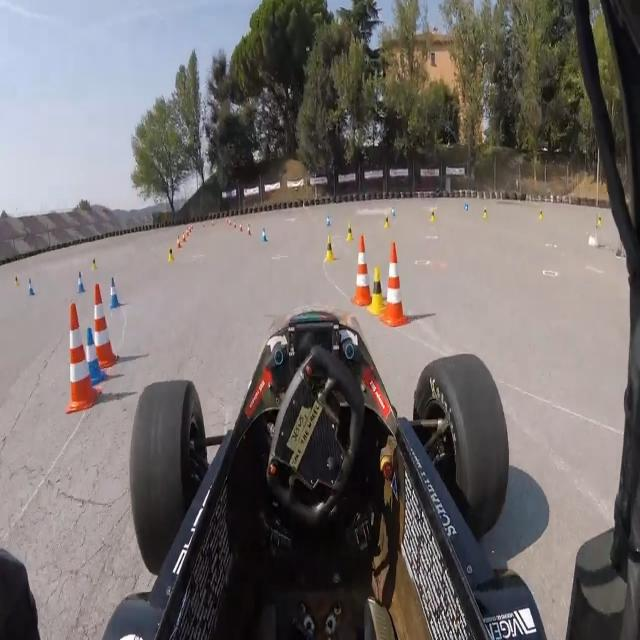blue_cone: (83, 323, 105, 388), (107, 275, 122, 311), (75, 269, 86, 294), (27, 277, 36, 297), (260, 226, 268, 244), (326, 214, 330, 228)
large_orange_cone: (63, 299, 103, 415), (86, 280, 118, 372), (381, 237, 411, 328), (351, 234, 375, 306)
orange_cone: (176, 234, 182, 250), (181, 230, 187, 243), (246, 224, 252, 236), (239, 222, 243, 233)
yellow_cone: (367, 264, 388, 318), (324, 233, 337, 264), (346, 222, 354, 242), (90, 256, 98, 272), (168, 245, 175, 262), (383, 213, 390, 229), (430, 206, 436, 222)
